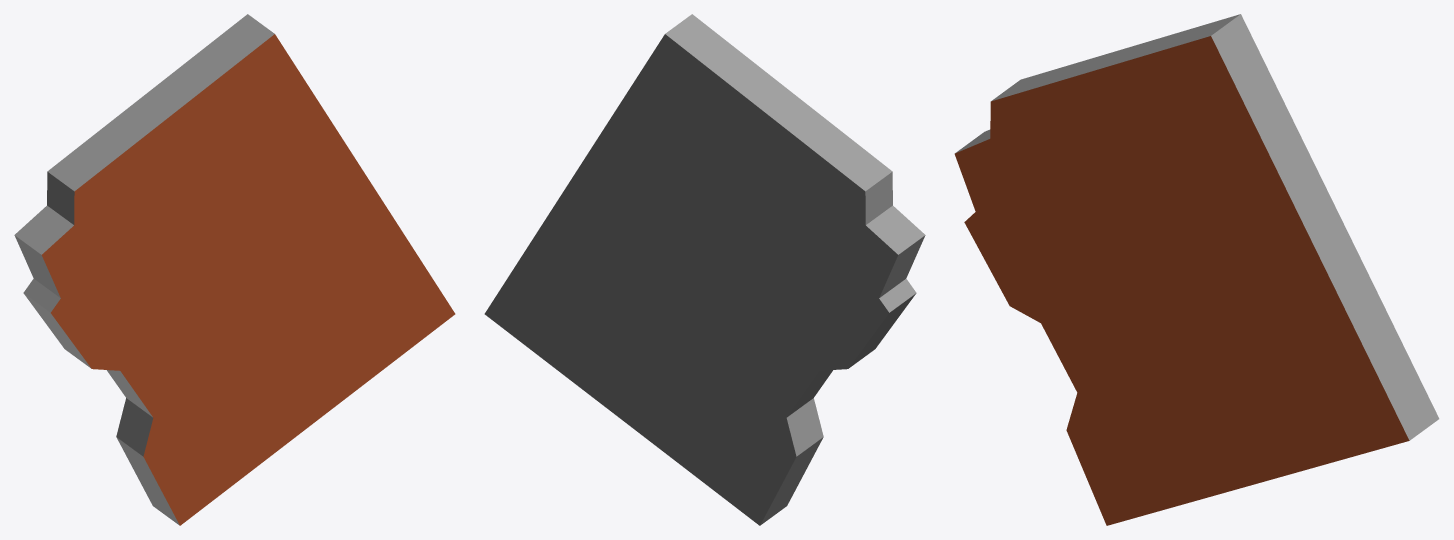
Rendered from construction_0052_assumed_A_Cemiterio_h6m.obj.
3 renders of one model, left to right at view 1: azimuth 30°, elevation 25°; view 2: azimuth 150°, elevation 25°; view 3: azimuth 330°, elevation 25°, orthographic. The views are drawn at different scales.
Parts seen in each view (by area): view 1: construction_0052_assumed_A_Cemiterio; view 2: construction_0052_assumed_A_Cemiterio; view 3: construction_0052_assumed_A_Cemiterio.
Part boxes in pixels (x1,y1,x2,y2): construction_0052_assumed_A_Cemiterio: [14, 14, 455, 525]; construction_0052_assumed_A_Cemiterio: [484, 14, 925, 525]; construction_0052_assumed_A_Cemiterio: [954, 14, 1439, 525].
Bounding box in the file's own units: 52.67 × 57.02 × 6.
